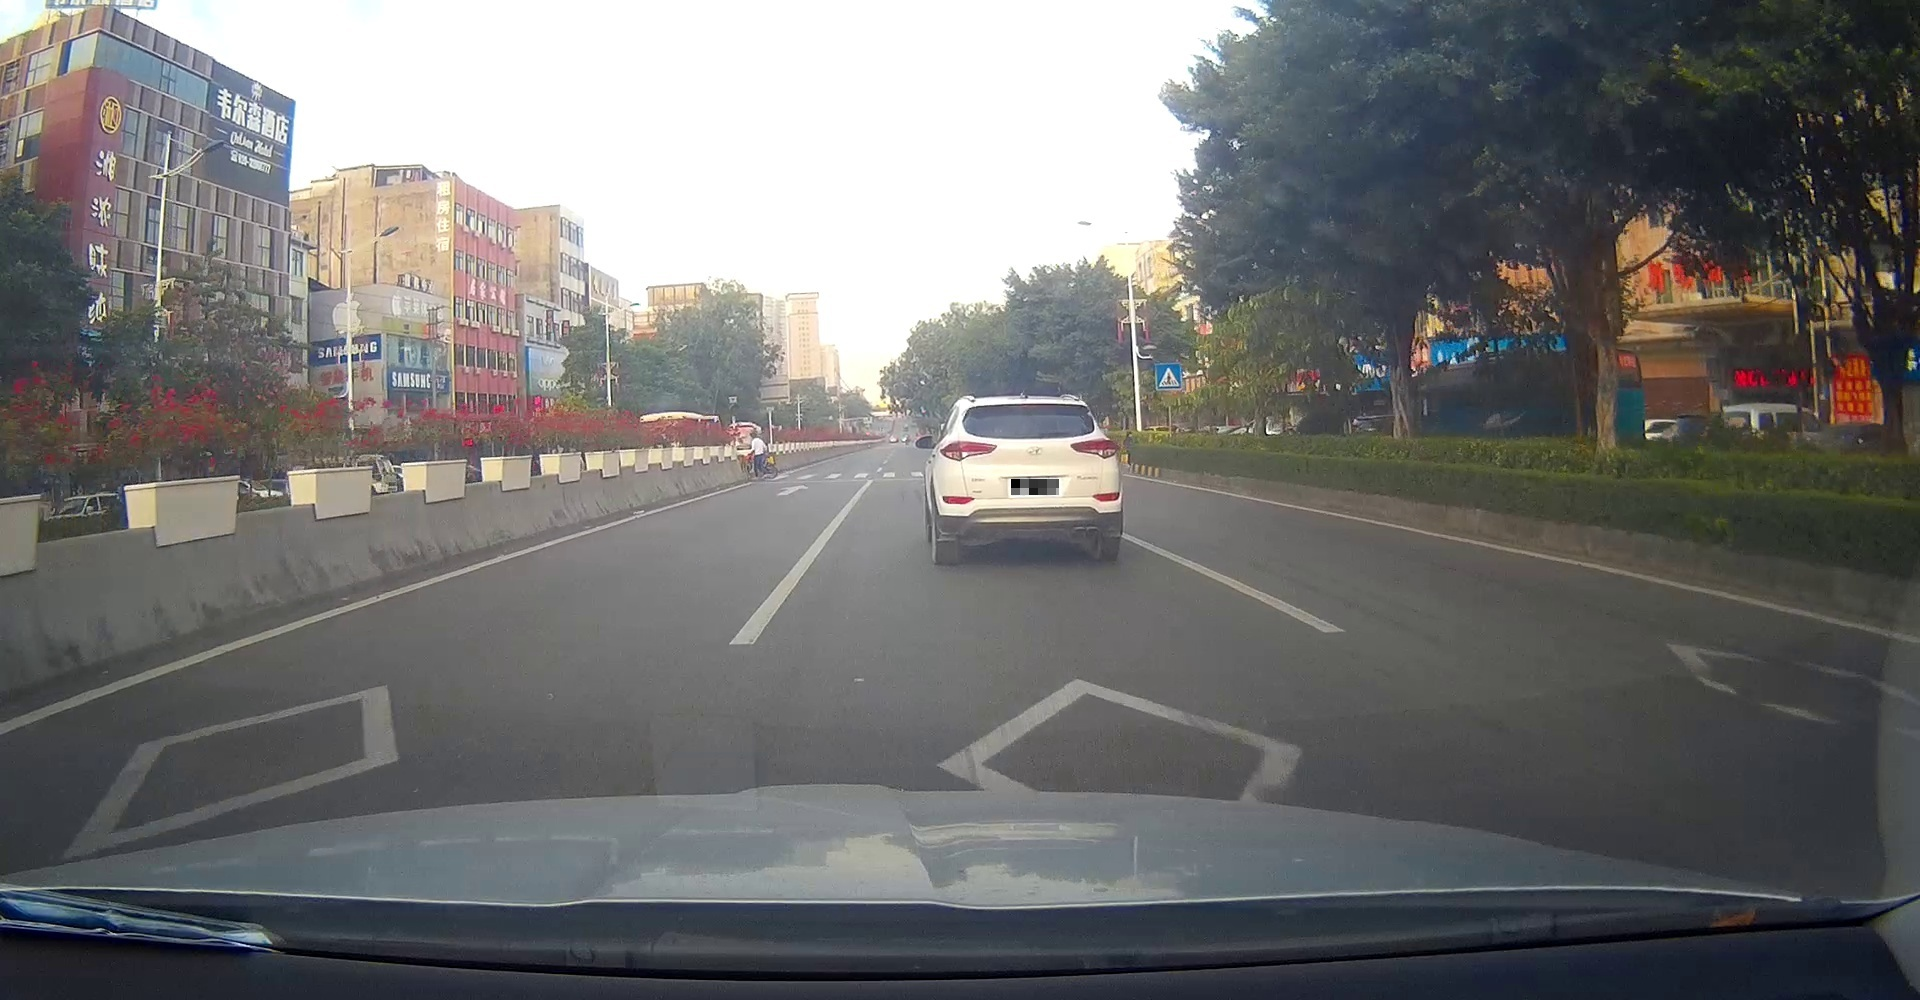L_light: (938, 440, 996, 461)
R_light: (1070, 438, 1119, 459)
T_light: (1008, 404, 1041, 409)
day-no: (933, 395, 1124, 563)
plate_1: (1011, 478, 1059, 495)
